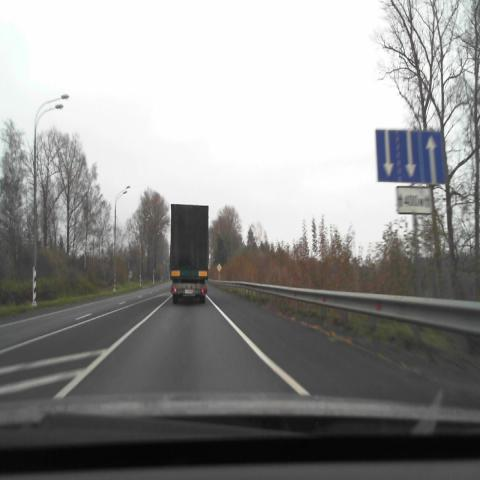8_2_1: (398, 186, 432, 214)
